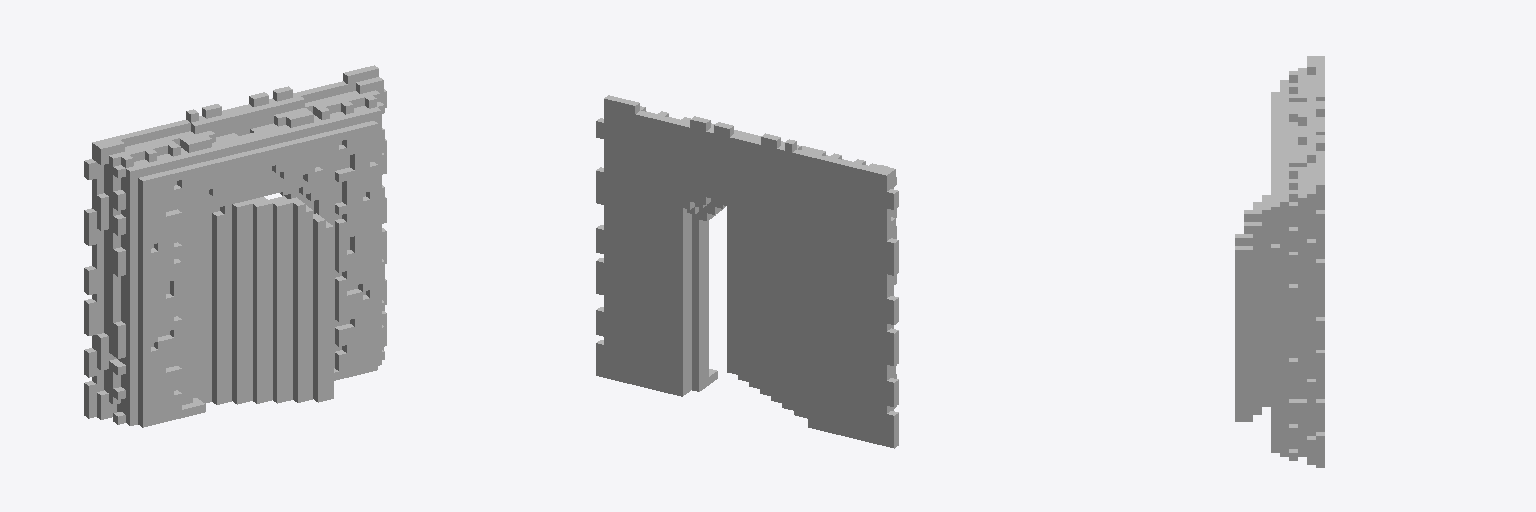
The model's file is Door 1.obj.
3 views of the same model, side by side, from view 1: azimuth 30°, elevation 25°; view 2: azimuth 150°, elevation 25°; view 3: azimuth 270°, elevation 25° (orthographic).
Size of the model in its own units: 38 by 34 by 10.